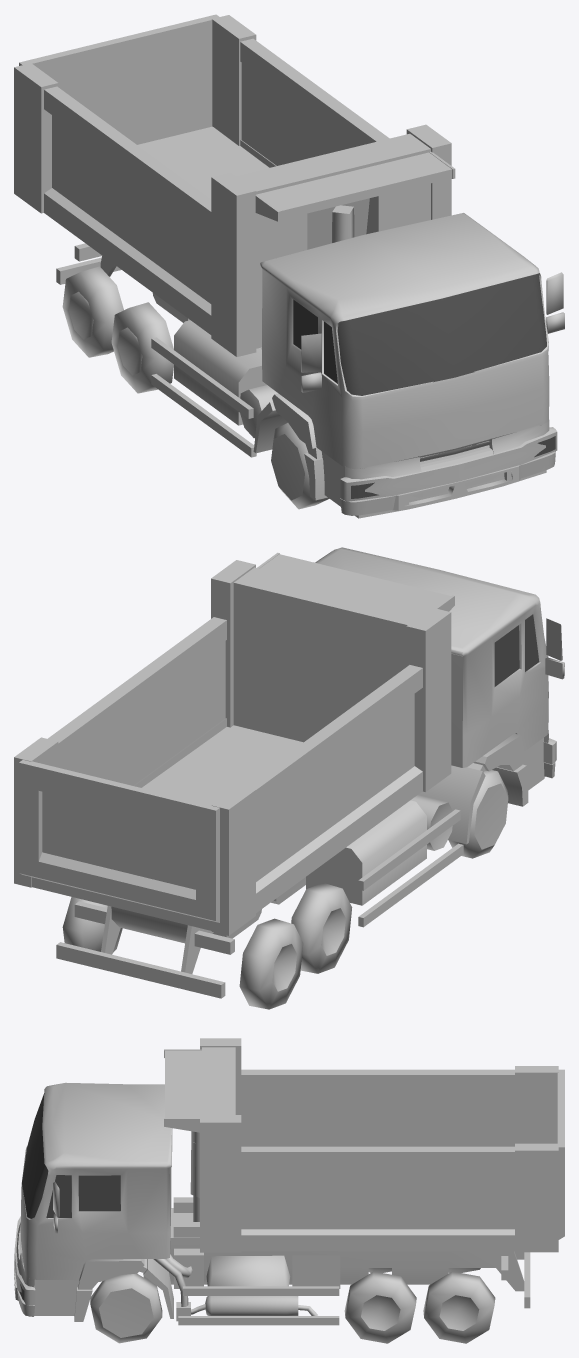
The model's file is TipperDumpTruck_LOD3.FBX.
3 views of the same model, one above another, from view 1: azimuth 30°, elevation 25°; view 2: azimuth 150°, elevation 25°; view 3: azimuth 270°, elevation 25° (orthographic). The views are drawn at different scales.
Parts seen in each view (by area): view 1: Body_LOD3, Windows_LOD3; view 2: Body_LOD3, Windows_LOD3; view 3: Body_LOD3, Windows_LOD3.
Boxes of the visible parts, x1,y1,x2,y2 form: Body_LOD3: [14, 14, 564, 518]; Windows_LOD3: [293, 274, 555, 498]; Body_LOD3: [14, 547, 564, 1009]; Windows_LOD3: [494, 614, 539, 686]; Body_LOD3: [14, 1038, 564, 1343]; Windows_LOD3: [19, 1093, 120, 1300].
Bounding box in the file's own units: 5.68 × 5.8 × 12.86.
